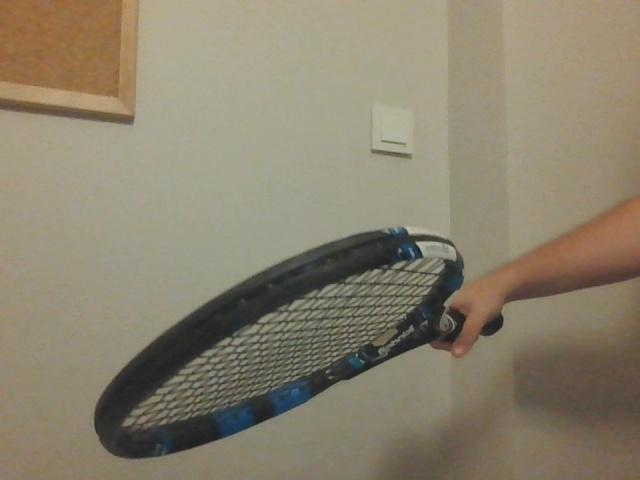Tennis-Racket: (90, 228, 498, 457)
